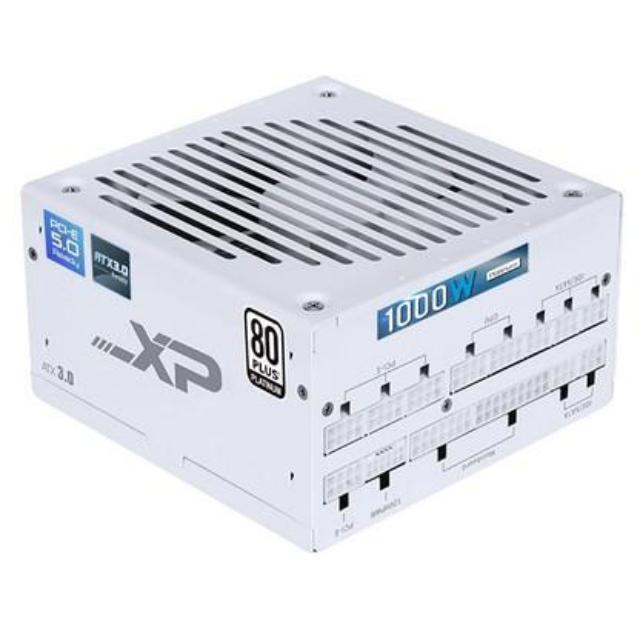PSU: (0, 66, 640, 548)
